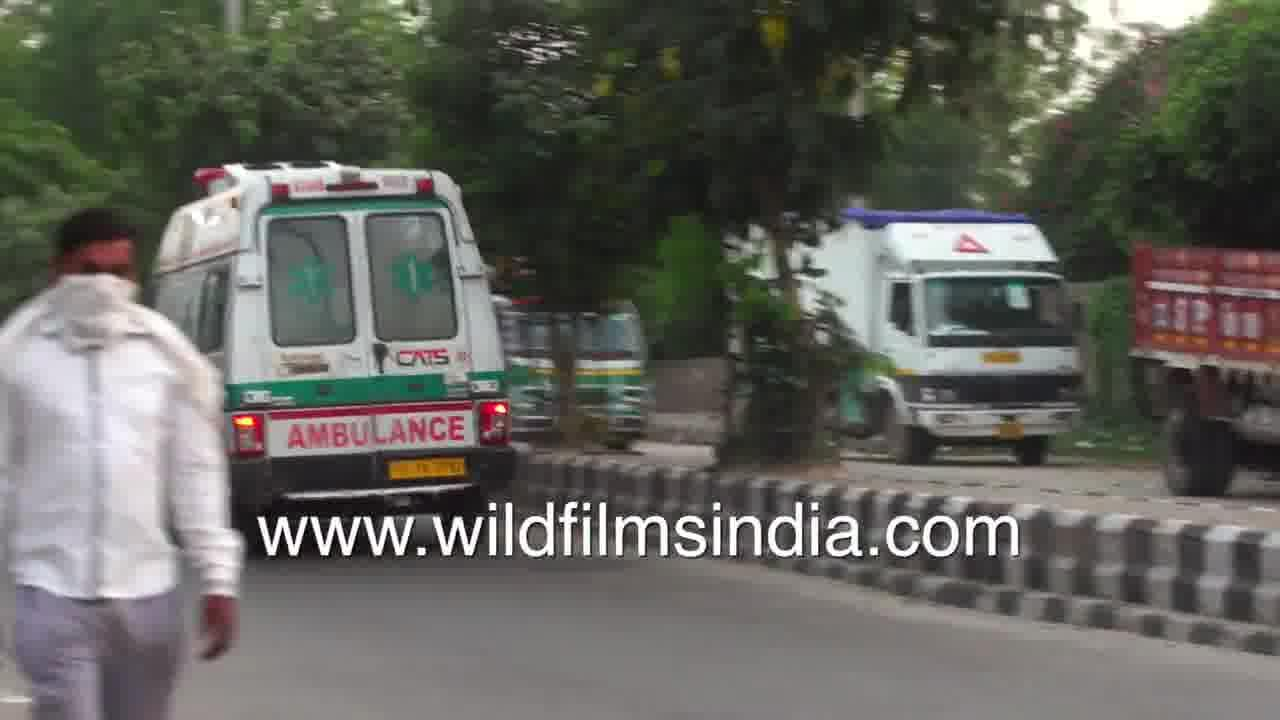AMBULANCE: (162, 114, 542, 525)
